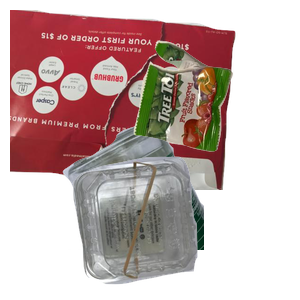glass: (60, 120, 300, 300)
paper: (10, 10, 238, 190)
plastic: (71, 154, 300, 300)
trash: (131, 38, 300, 182)
